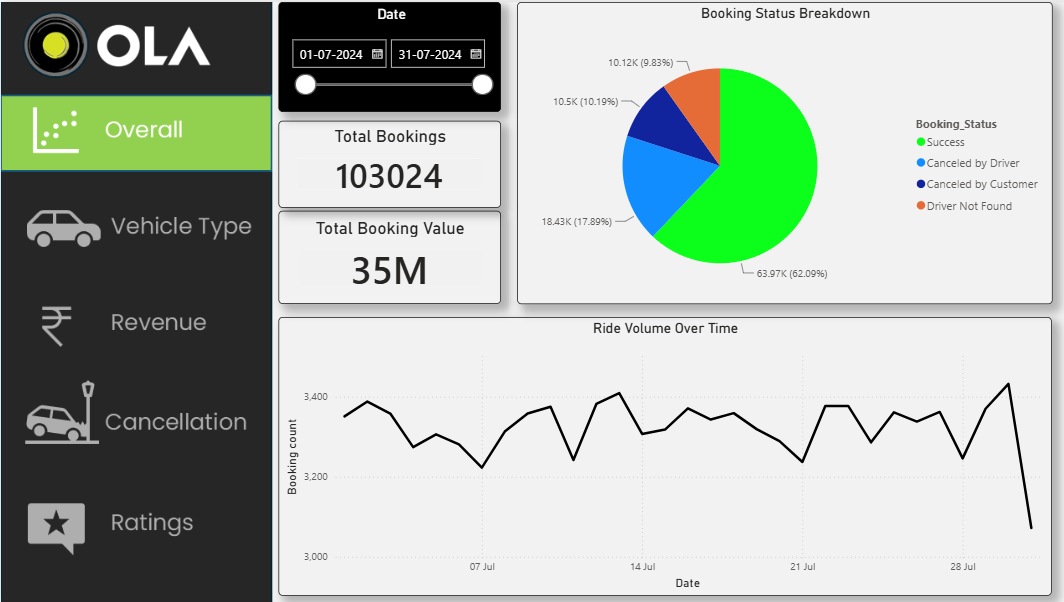

Layout of this report page (visuals, bound fields, positions):
{"tool":"powerbi","page":{"name":"Overall","canvas":[1280,720],"ordinal":0},"visuals":[{"type":"actionButton","box":[0,223.2,323.3,92.9],"z":0},{"type":"actionButton","box":[0,223.8,323.8,92.5],"z":1000},{"type":"actionButton","box":[0,342.5,323.8,95],"z":2000},{"type":"actionButton","box":[0,437.5,323.8,115],"z":3000},{"type":"actionButton","box":[0,571.2,323.8,95],"z":4000},{"type":"lineChart","title":"Ride Volume Over Time","fields":{"Y":["CountNonNull(OLA_Bookings.Booking_ID)"],"Category":["OLA_Bookings.Date"]},"box":[331.8,376.4,922.9,333],"z":5000},{"type":"pieChart","title":"Booking Status Breakdown","fields":{"Category":["OLA_Bookings.Booking_Status"],"Y":["CountNonNull(OLA_Bookings.Booking_Status)"]},"box":[616.1,0,639.1,360.7],"z":6000},{"type":"slicer","title":"Date","fields":{"Values":["OLA_Bookings.Date"]},"box":[331.8,0,265.5,131.3],"z":7000},{"type":"cardVisual","title":"Total Bookings","fields":{"Data":["Count(OLA_Bookings.Booking_ID)"]},"box":[331.8,141.4,265.5,103.9],"z":8000},{"type":"cardVisual","title":"Total Booking Value","fields":{"Data":["Sum(OLA_Bookings.Booking_Value)"]},"box":[331.8,249.6,265.5,111.1],"z":9000}]}

Visuals, with their boxes in screenshot pixels (x1, y1, x2, y2), scaled from the page's 1280x720 canvas onto the 1064x602 screenshot:
actionButton: [left=0, top=187, right=269, bottom=264]
actionButton: [left=0, top=187, right=269, bottom=264]
actionButton: [left=0, top=286, right=269, bottom=366]
actionButton: [left=0, top=366, right=269, bottom=462]
actionButton: [left=0, top=478, right=269, bottom=557]
"Ride Volume Over Time" lineChart: [left=276, top=315, right=1043, bottom=593]
"Booking Status Breakdown" pieChart: [left=512, top=0, right=1043, bottom=302]
"Date" slicer: [left=276, top=0, right=497, bottom=110]
"Total Bookings" cardVisual: [left=276, top=118, right=497, bottom=205]
"Total Booking Value" cardVisual: [left=276, top=209, right=497, bottom=302]
